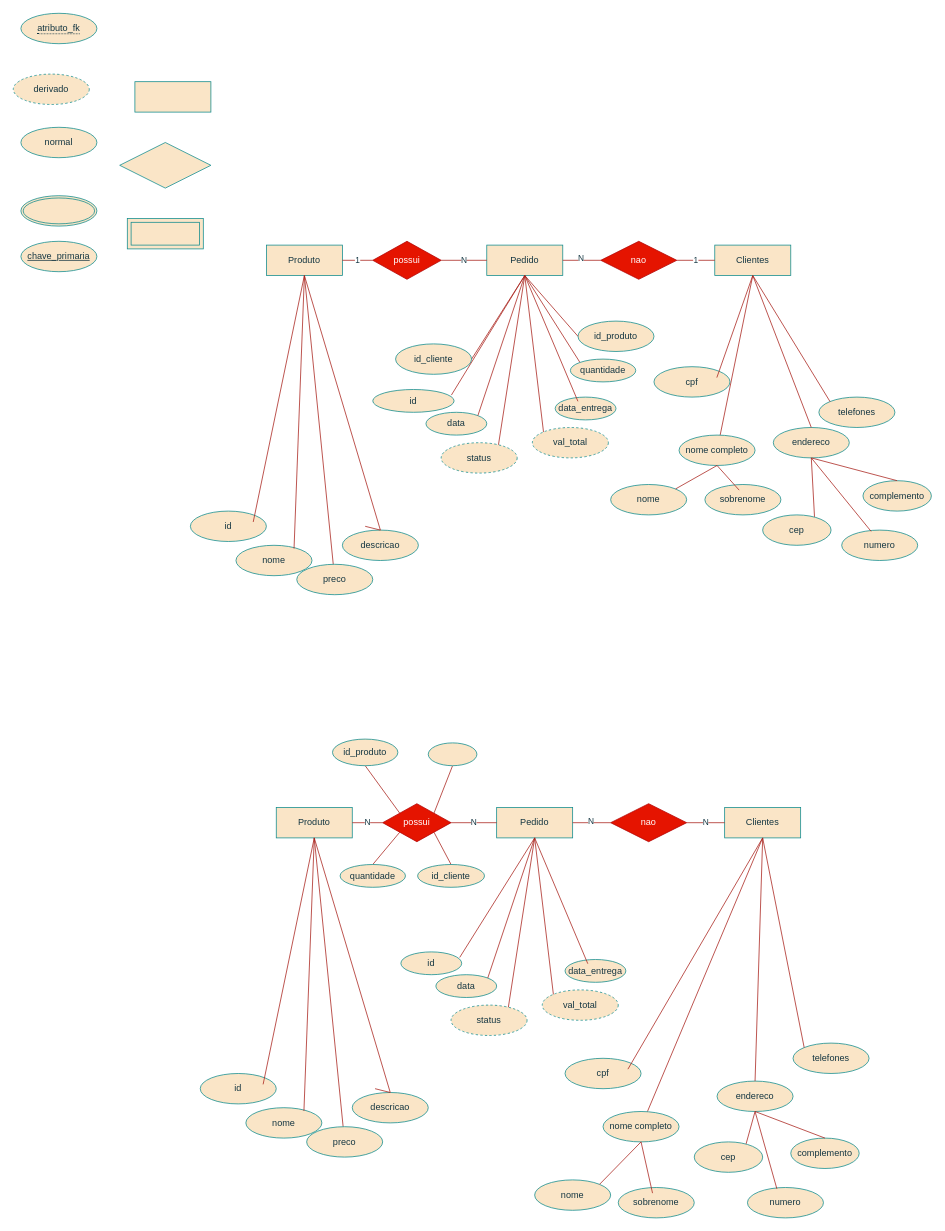
The diagram is 945 pixels wide and 1231 high, and some of its shapes have lost their labels. The box of each missing label's shape, as (x1, y1, x2, y2) in pixels:
entidade fraca: (127, 218, 203, 249)
entidades: (134, 81, 211, 112)
multivalorado: (20, 195, 97, 226)
relacionais: (119, 142, 211, 188)
subtotal: (428, 742, 477, 766)
